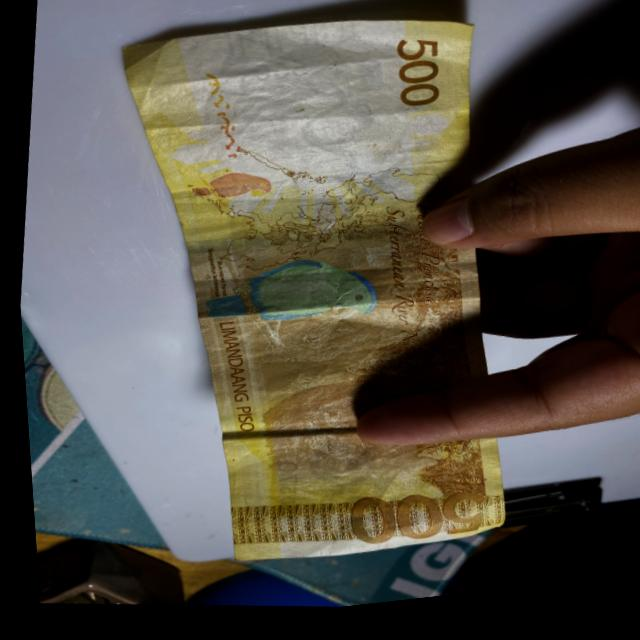500_big_parrot: (196, 250, 374, 347)
500_parrot_watermark: (187, 172, 269, 212)
value_watermark: (250, 61, 305, 94)
watermark: (210, 44, 399, 180)
